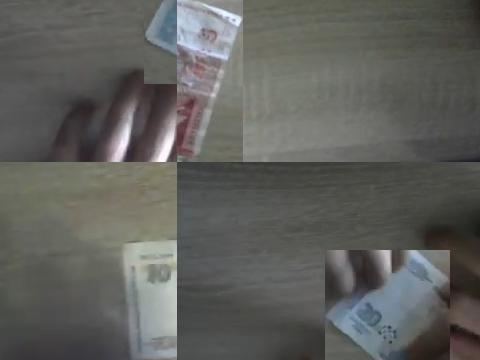20leva: (325, 250, 450, 360)
5leva: (177, 0, 243, 162)
